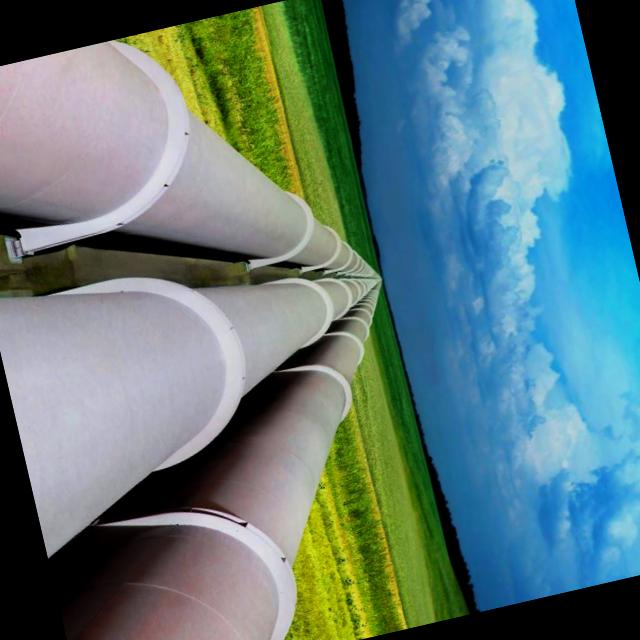gas: (51, 288, 382, 640), (0, 278, 382, 555), (0, 40, 380, 278)
